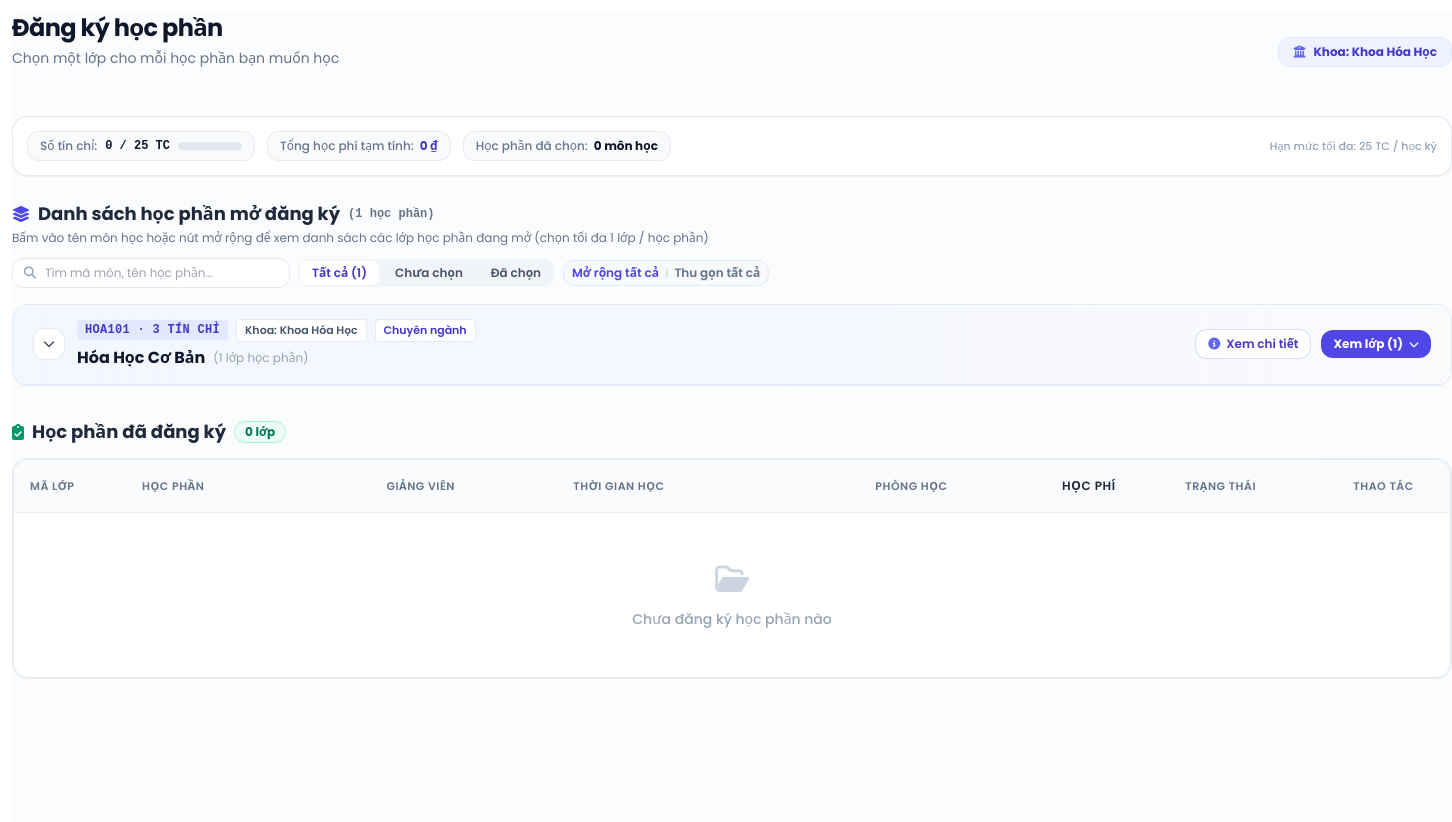
Test: StudentCourseRegistration Auto Time-Lock & Read-only behavior › locks registration button and shows expired status badge when registrationEnd has passed
// Expand course accordion
Click the text "Hóa Học Cơ Bản".
click(141, 358)  # box 77,346 -> 205,370
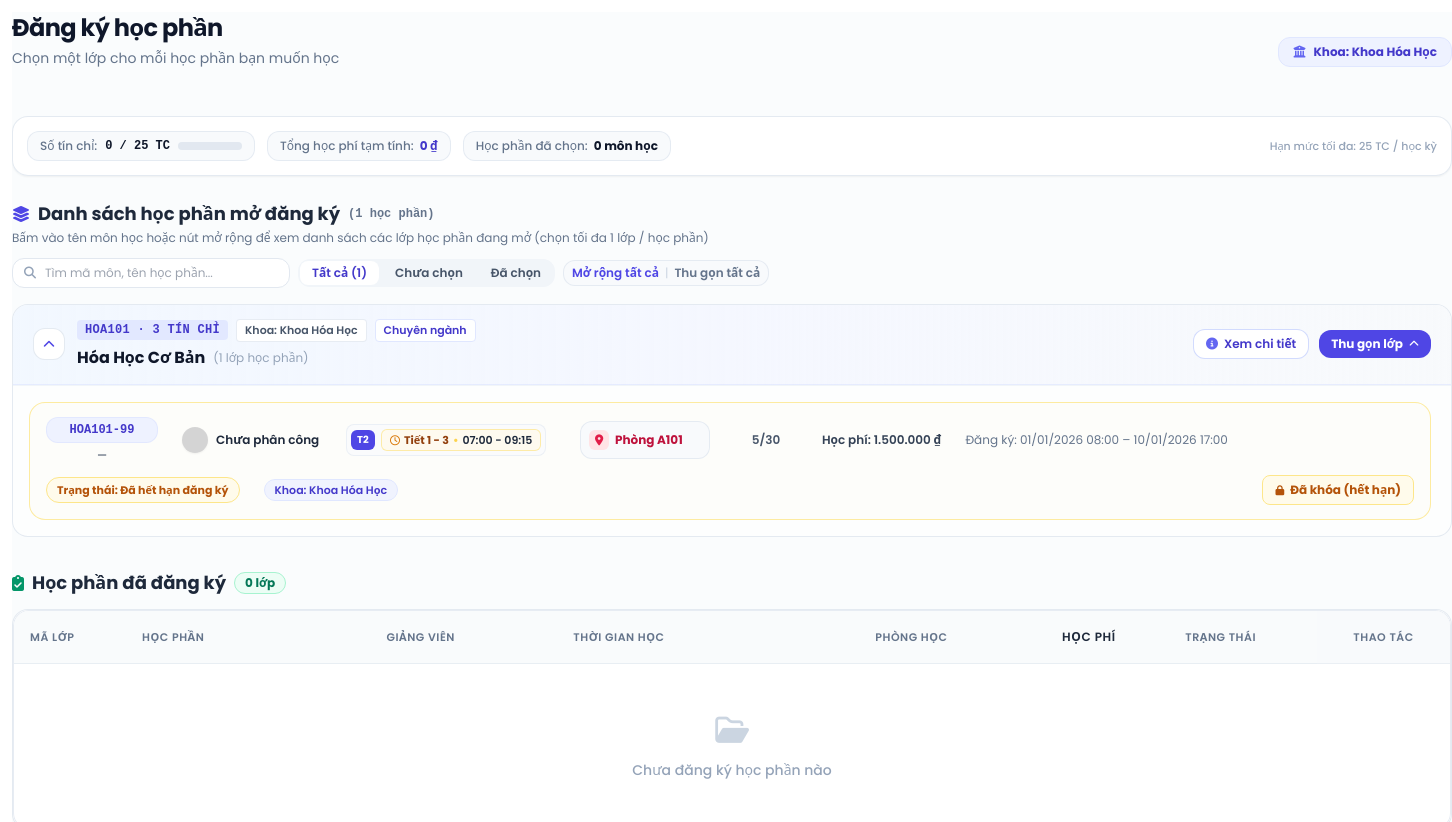
Expected: the text "HOA101-99" is shown, 46,416 -> 158,442
Expected: the text "Đã khóa (hết hạn)" is shown, 1262,475 -> 1414,505
Expected: the text "Trạng thái: Đã hết hạn đăng ký" is shown, 46,477 -> 240,503
